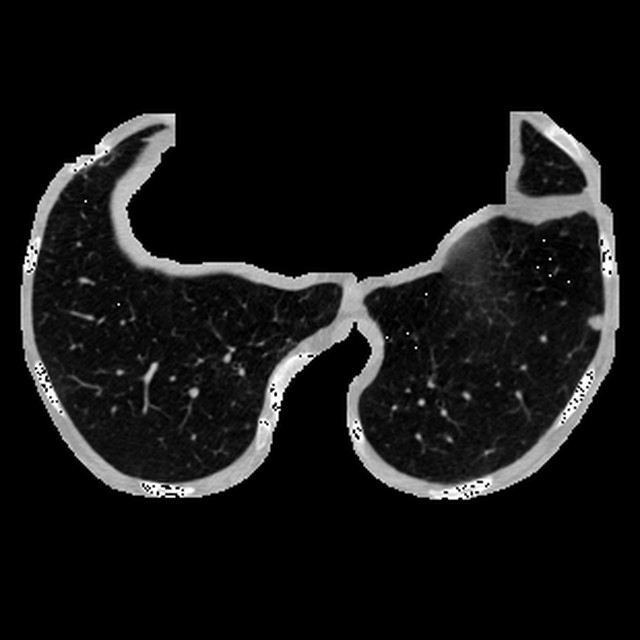PN: (590, 316, 603, 328)
